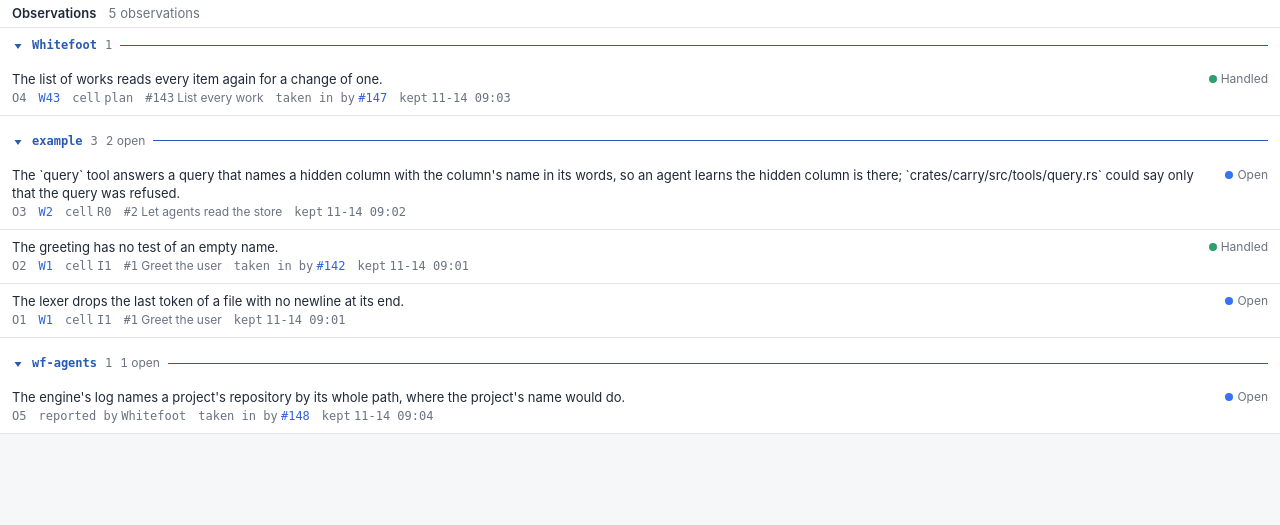
it: the observations › folds a group away at a press on its head and opens it again at the next, and keeps which are folded in the browser
Later steps or results of the test are not shown.
Click the button "example 3 2 open" at (57, 141), box [8,128,1272,154]
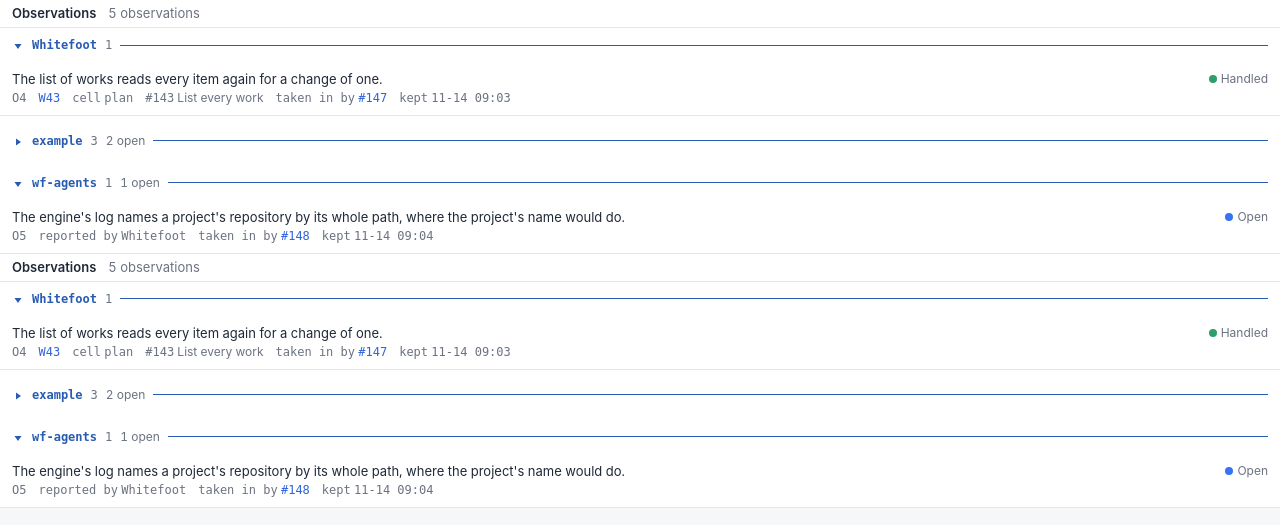
Result: the 1st button "example 3 2 open" is collapsed at [8,128,1272,154]
